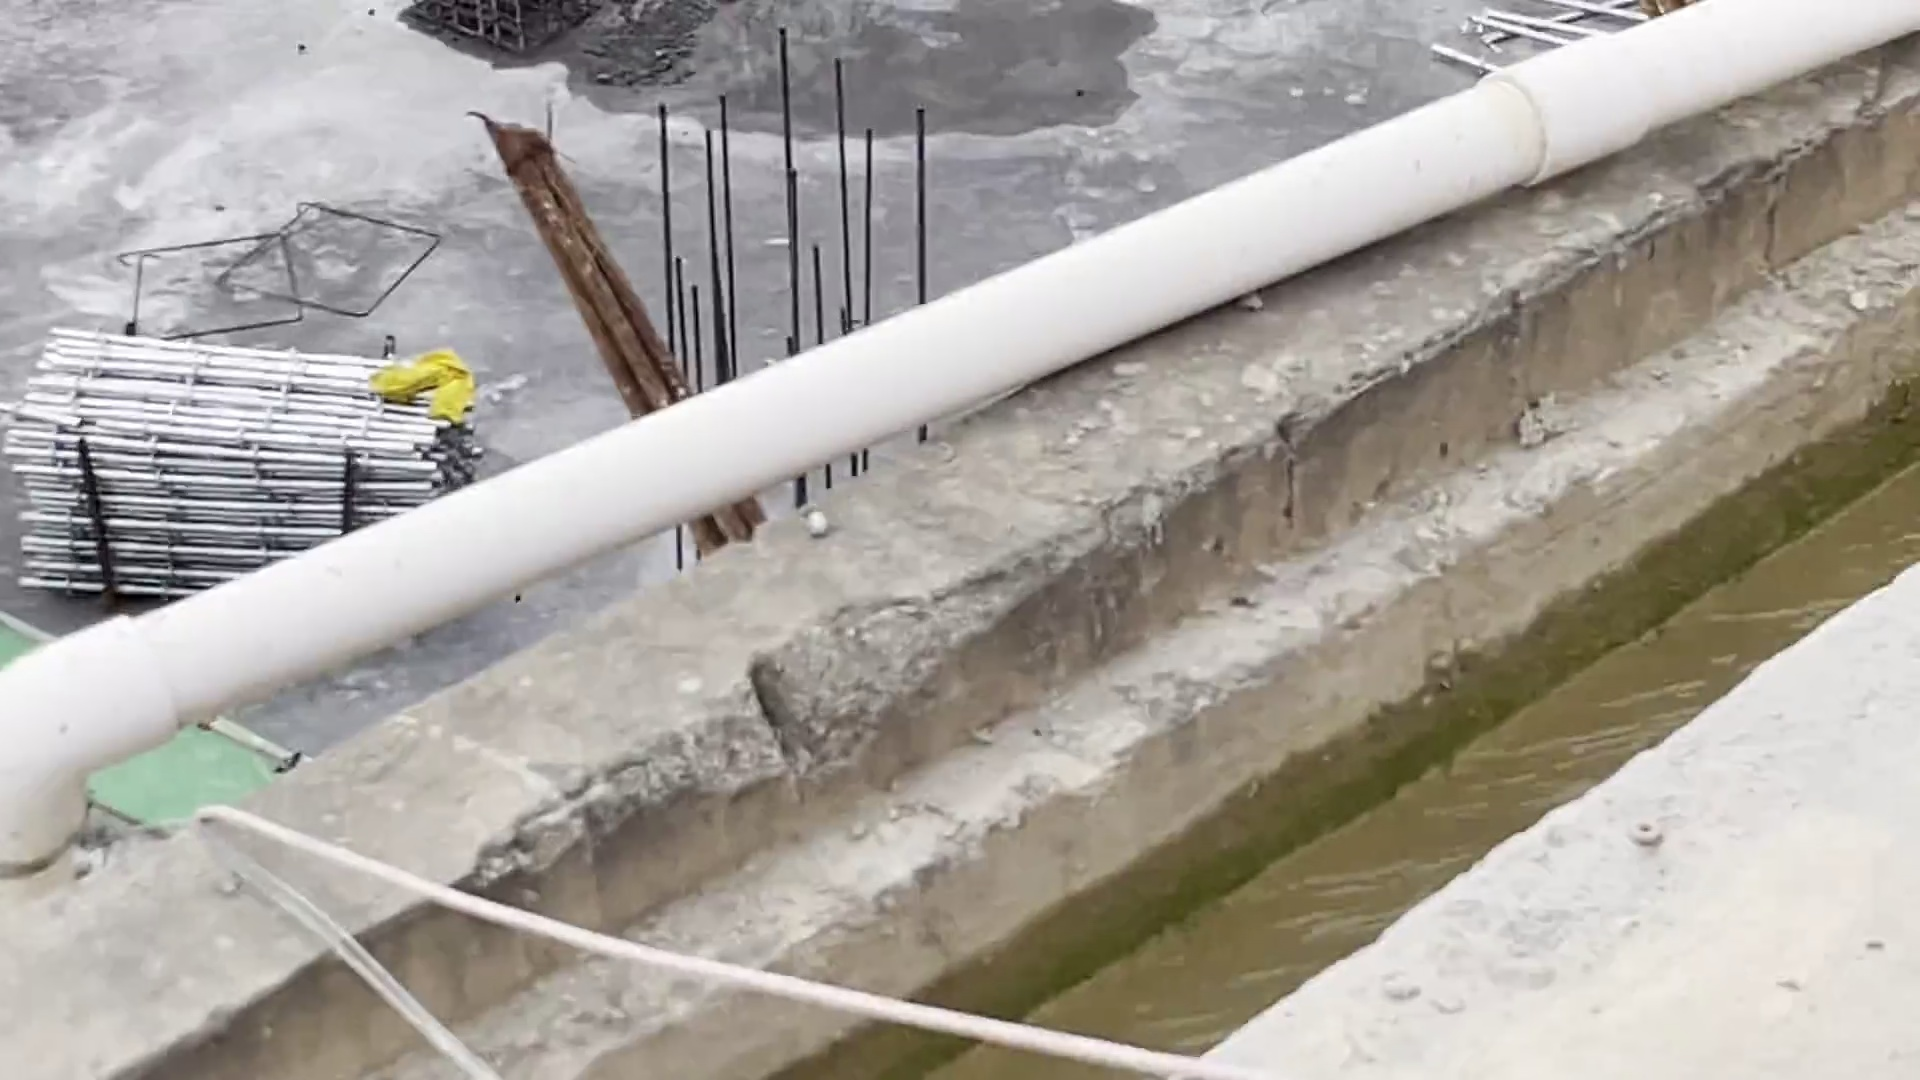scaffold: (15, 316, 454, 583)
